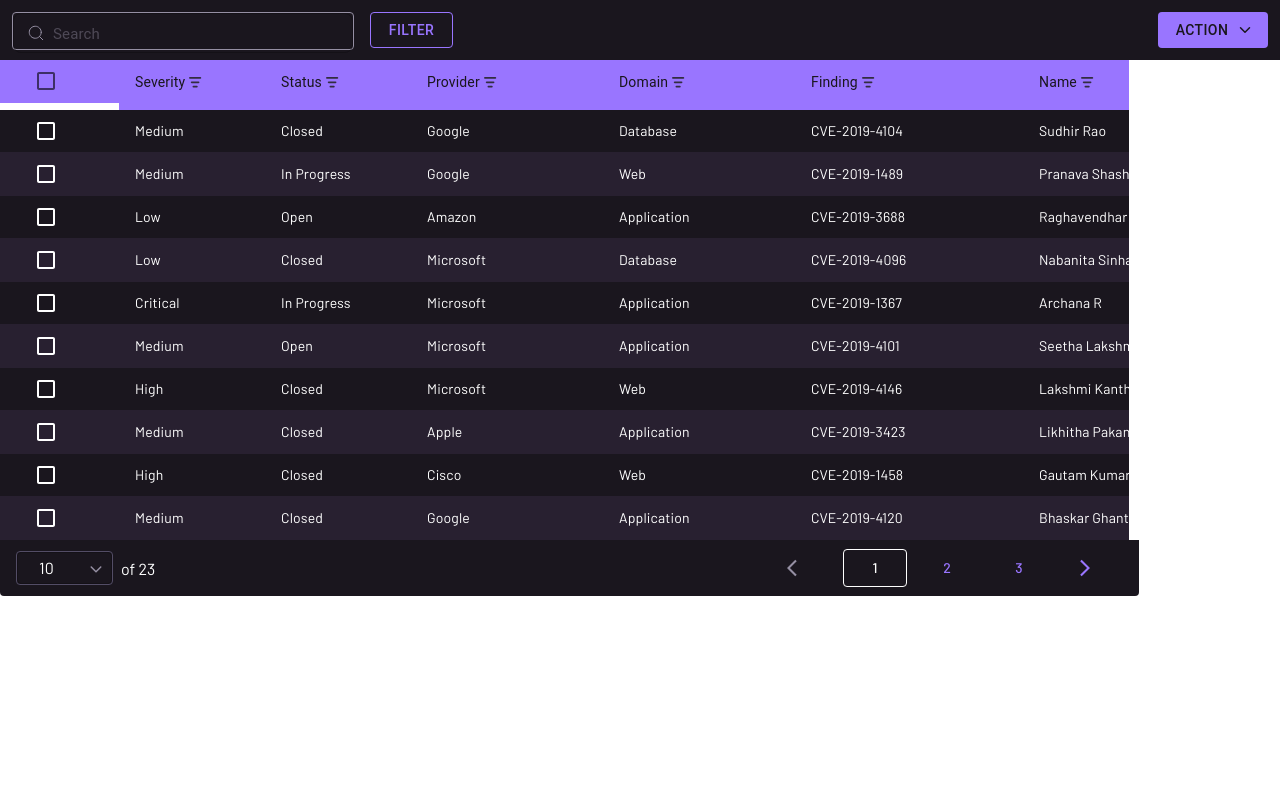
Test: SecurityDataTable Component › renders pagination buttons correctly
Check: the button with test id "paginationButton-1" is shown, box x1=843 y1=549 x2=907 y2=587
Check: the icon with test id "ArrowBackIosIcon" is shown, box x1=787 y1=558 x2=807 y2=578
Click the button with test id "ArrowForwardIosIcon".
click(1091, 568)  # box x1=1059 y1=560 x2=1123 y2=576
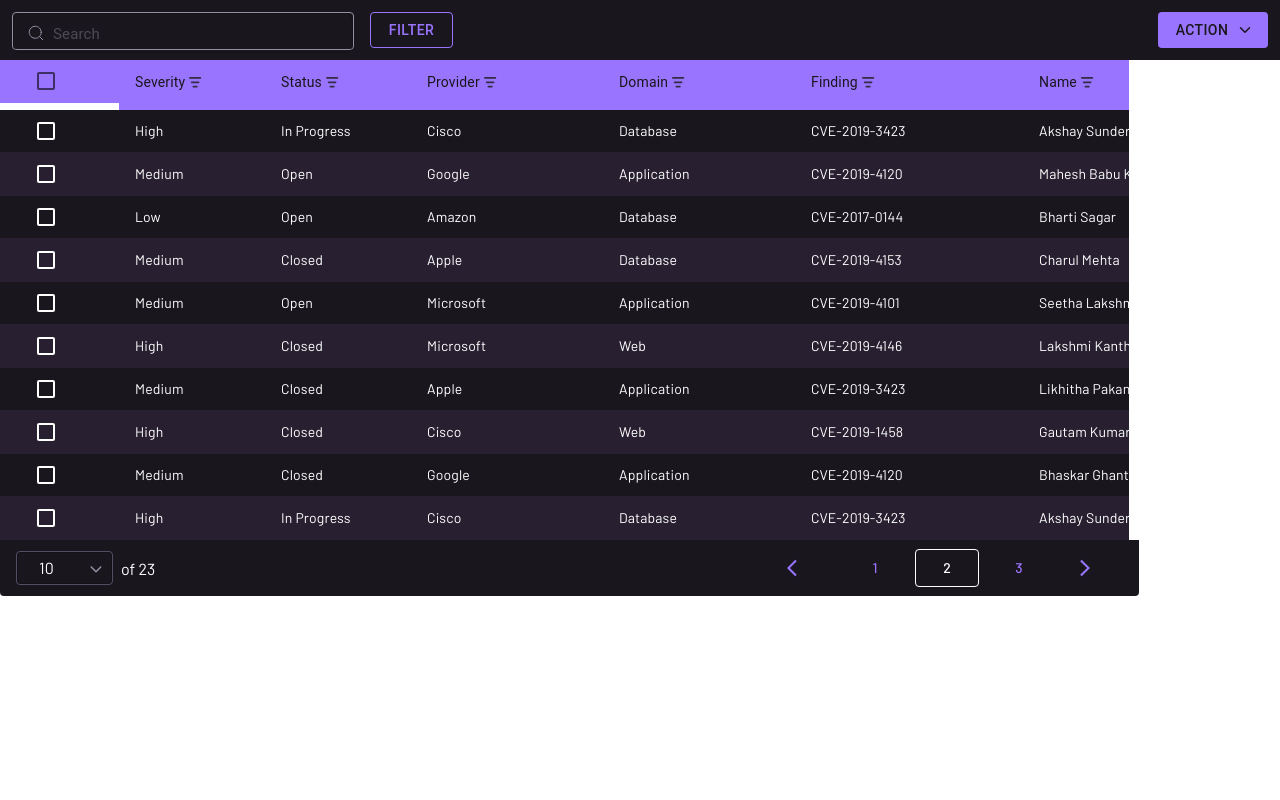
Check: the text "Sudhir Rao" is gone
Check: the text "Pranava Shashank Pindi" is gone
Check: the text "Raghavendhar J" is gone
Click the button with test id "ArrowBackIosIcon".
click(803, 568)  # box x1=771 y1=560 x2=835 y2=576
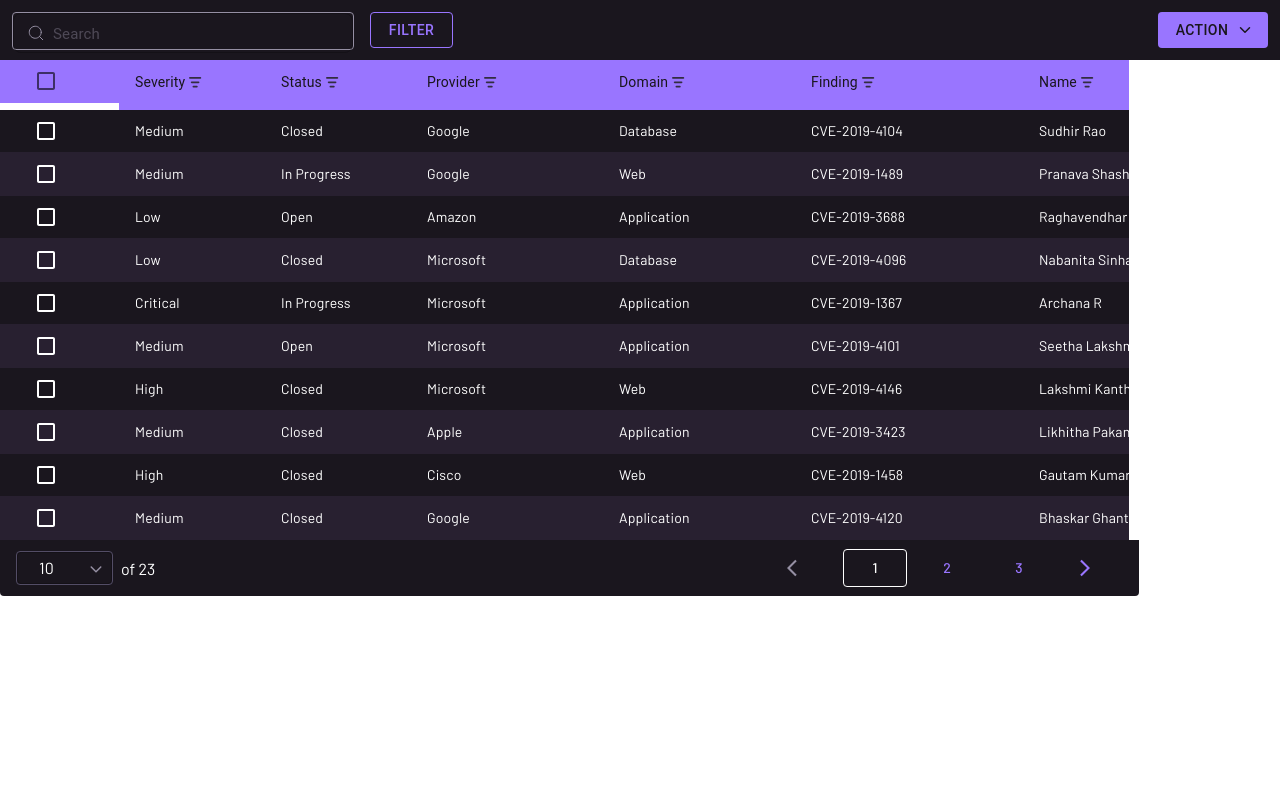
Check: the text "Charul Mehta" is gone
Check: the text "Mahesh Babu Kuraganti" is gone
Check: the text "Bharti Sagar" is gone
